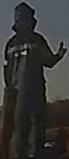gloves: (56, 40, 67, 61)
vest: (4, 31, 45, 100)
